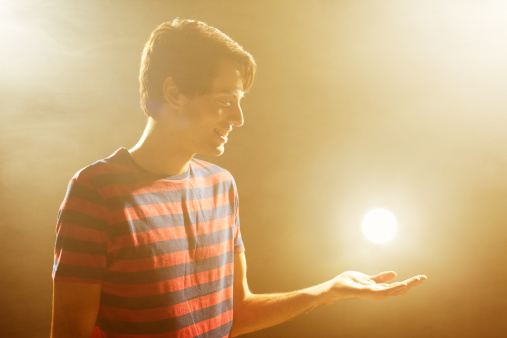em pe: (31, 27, 322, 338)
